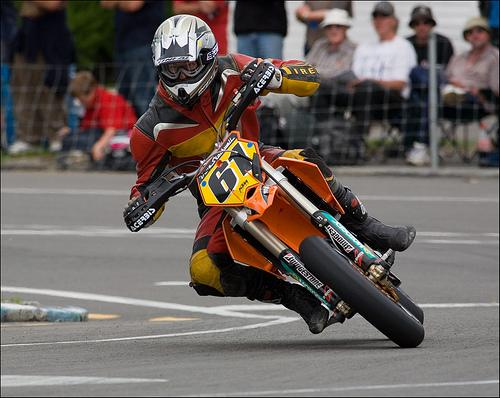motorbike: (121, 124, 428, 351)
